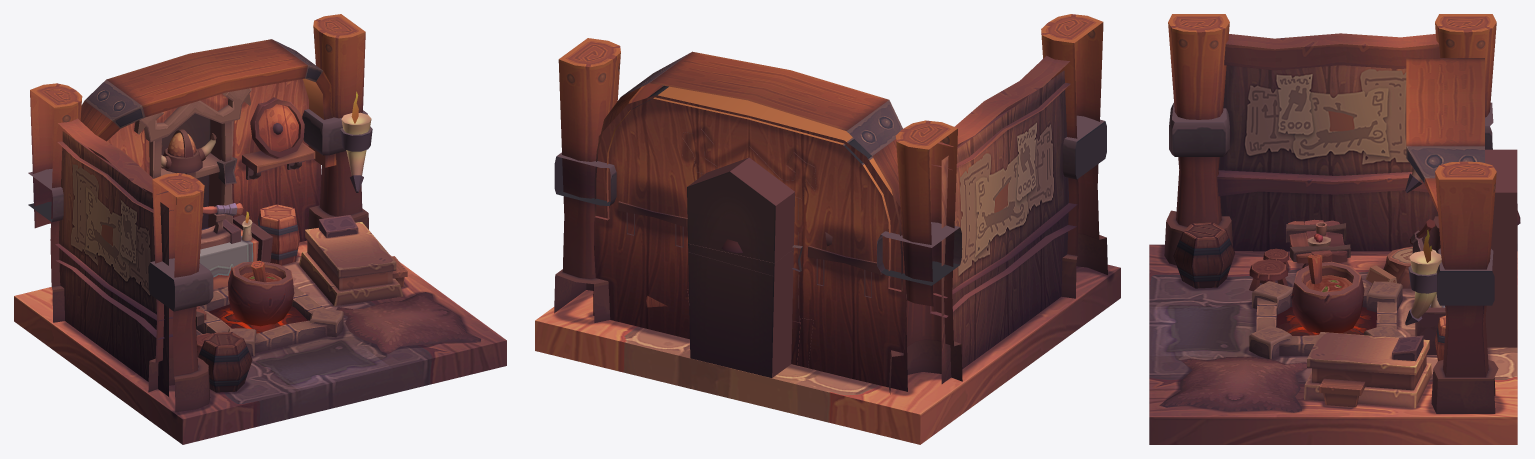
File: room.gltf
The picture shows the model from 3 angles, left to right: view 1: azimuth 30°, elevation 25°; view 2: azimuth 150°, elevation 25°; view 3: azimuth 270°, elevation 25°; orthographic projection. The views are drawn at different scales.
Parts seen in each view (by area): view 1: mesh_all1; view 2: mesh_all1; view 3: mesh_all1.
Boxes of the visible parts, x1=… form: mesh_all1: x1=14, y1=14, x2=506, y2=444; mesh_all1: x1=535, y1=14, x2=1120, y2=444; mesh_all1: x1=1149, y1=14, x2=1520, y2=444.
Bounding box in the file's own units: 26.31 × 18.6 × 23.91.
Materials: 1 (1 with a texture image).
